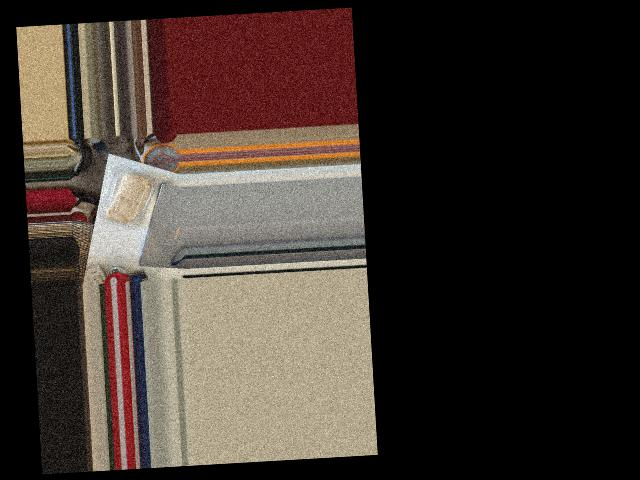cheese: (96, 159, 159, 233)
